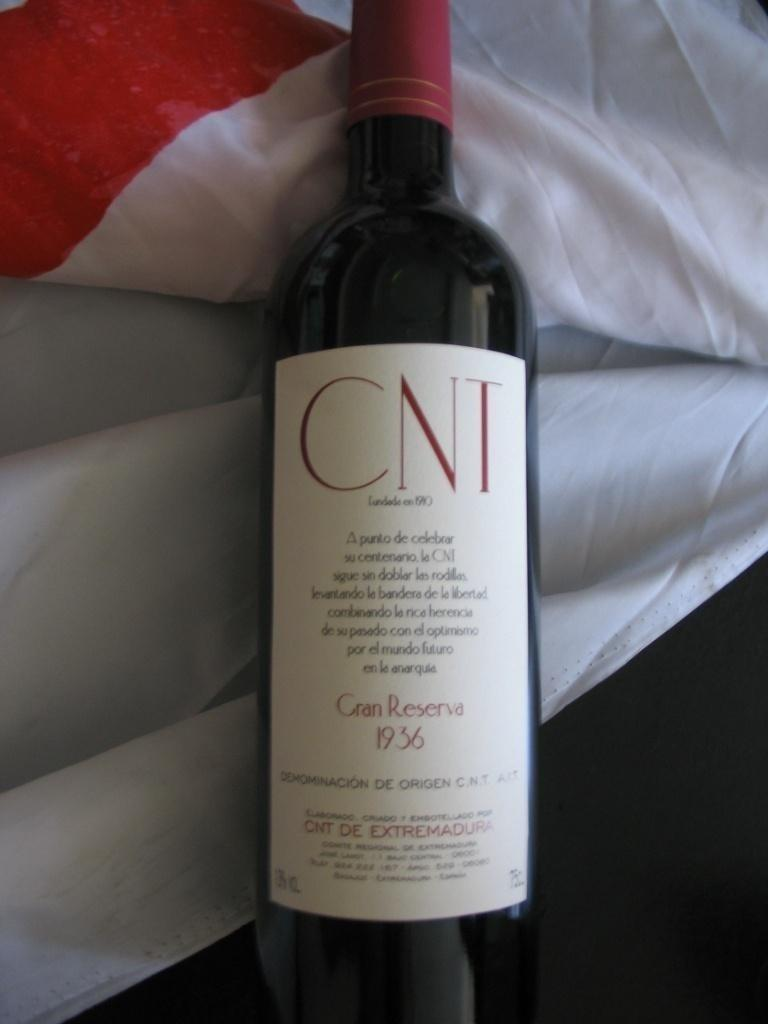bottle-glass: (262, 0, 537, 1023)
